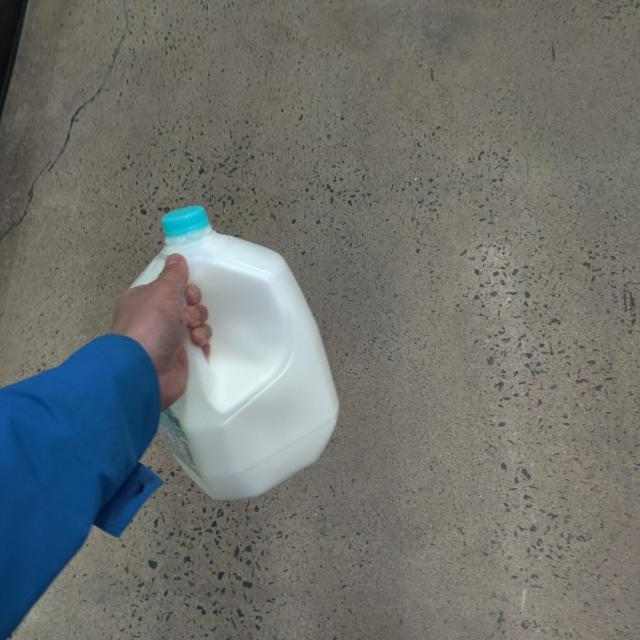Milk: (114, 188, 358, 506)
